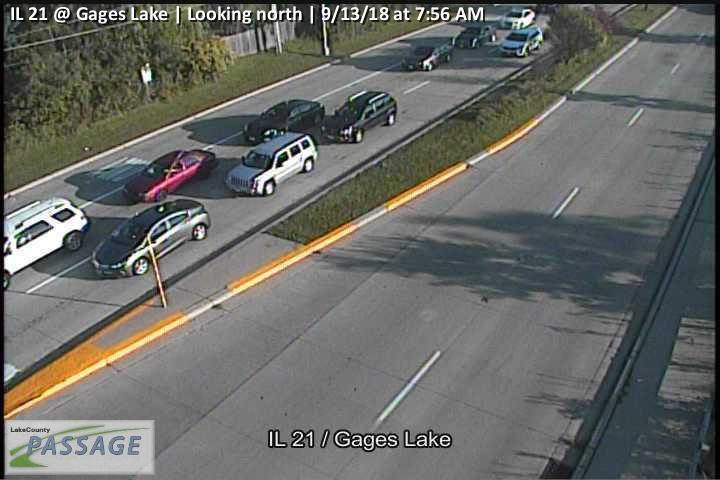SUV: (1, 196, 90, 292), (224, 132, 319, 198), (320, 89, 397, 143), (496, 29, 543, 53)
Sedan: (90, 198, 211, 280), (121, 148, 217, 201), (243, 99, 323, 140), (401, 44, 453, 71), (452, 24, 494, 50), (496, 6, 537, 29)
